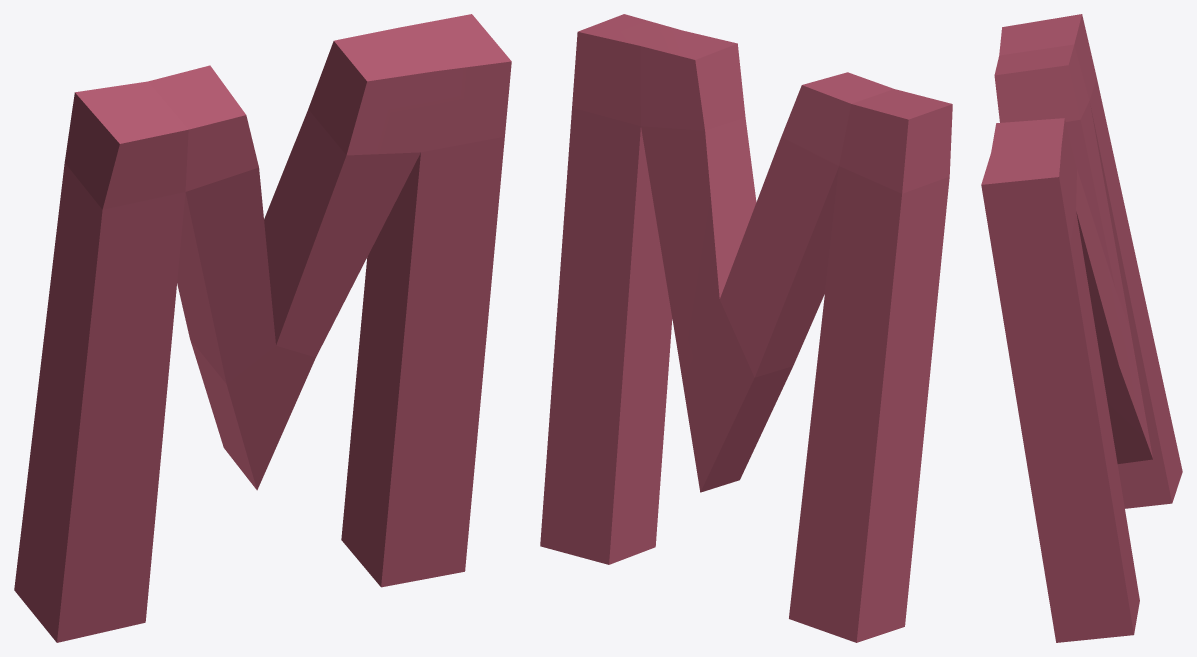
The picture shows the model from 3 angles, left to right: view 1: azimuth 30°, elevation 25°; view 2: azimuth 150°, elevation 25°; view 3: azimuth 270°, elevation 25°; orthographic projection. The views are drawn at different scales.
Parts seen in each view (by area): view 1: mesh_M; view 2: mesh_M; view 3: mesh_M.
Part boxes in pixels (x1,y1,x2,y2): mesh_M: [14, 14, 511, 642]; mesh_M: [540, 14, 952, 642]; mesh_M: [981, 14, 1182, 642].
Size of the model in its own units: 57.01 by 77.88 by 29.91.
